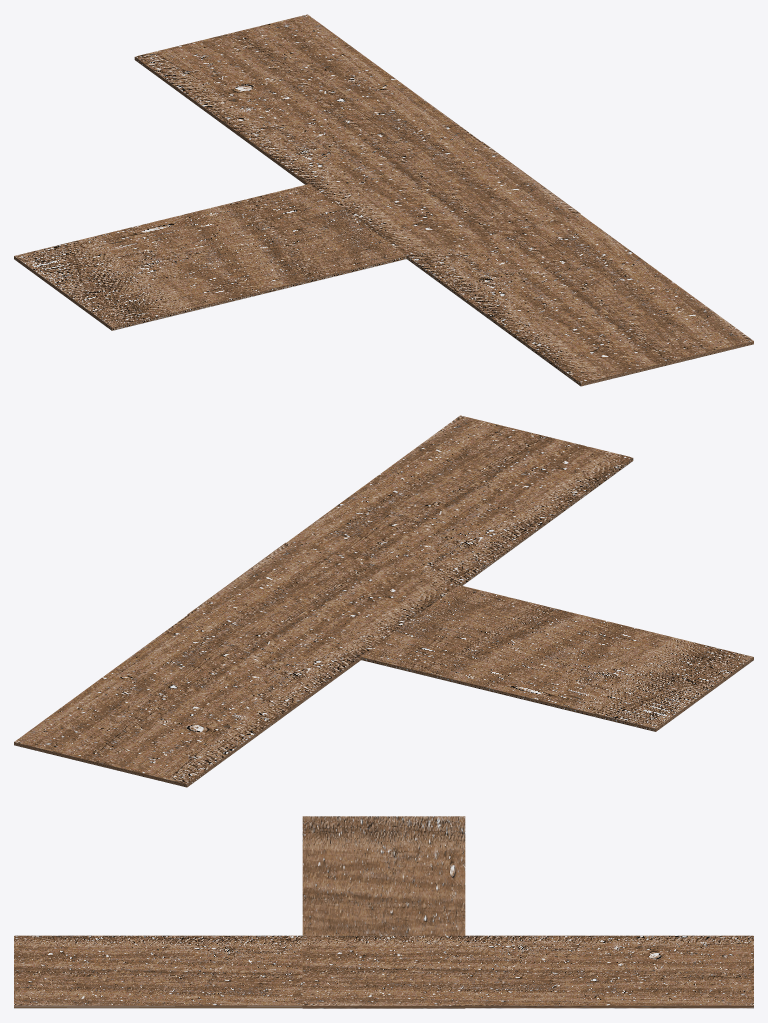
File: RouteGaucheVersHautBas.dae
The picture shows the model from 3 angles, top to bottom: view 1: azimuth 30°, elevation 25°; view 2: azimuth 150°, elevation 25°; view 3: azimuth 270°, elevation 25°; orthographic projection. The views are drawn at different scales.
Visible parts, largest first — view 1: Cube; view 2: Cube; view 3: Cube.
Boxes of the visible parts, x1,y1,x2,y2 form: Cube: (14, 14, 753, 386); Cube: (14, 415, 753, 787); Cube: (14, 816, 753, 1008).
Bounding box in the file's own units: 3.63 × 5.99 × 0.0239.
1 material, 1 textured.
